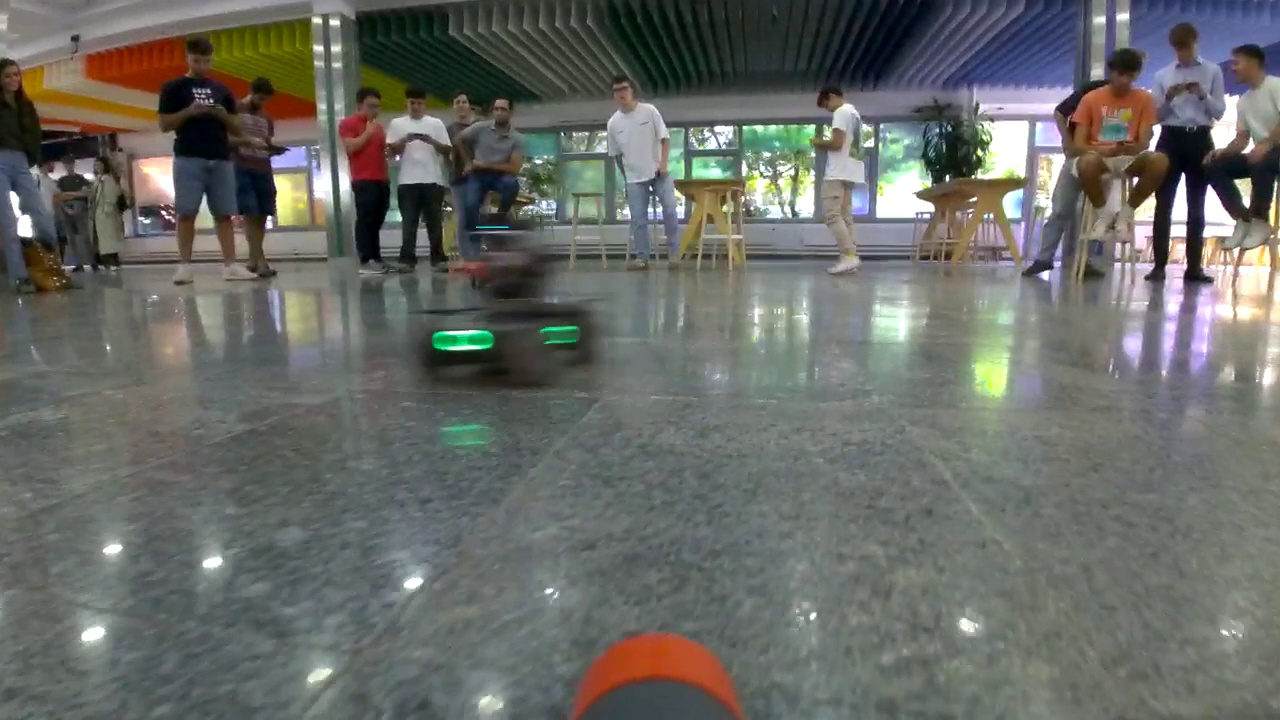robot: (430, 212, 599, 384)
